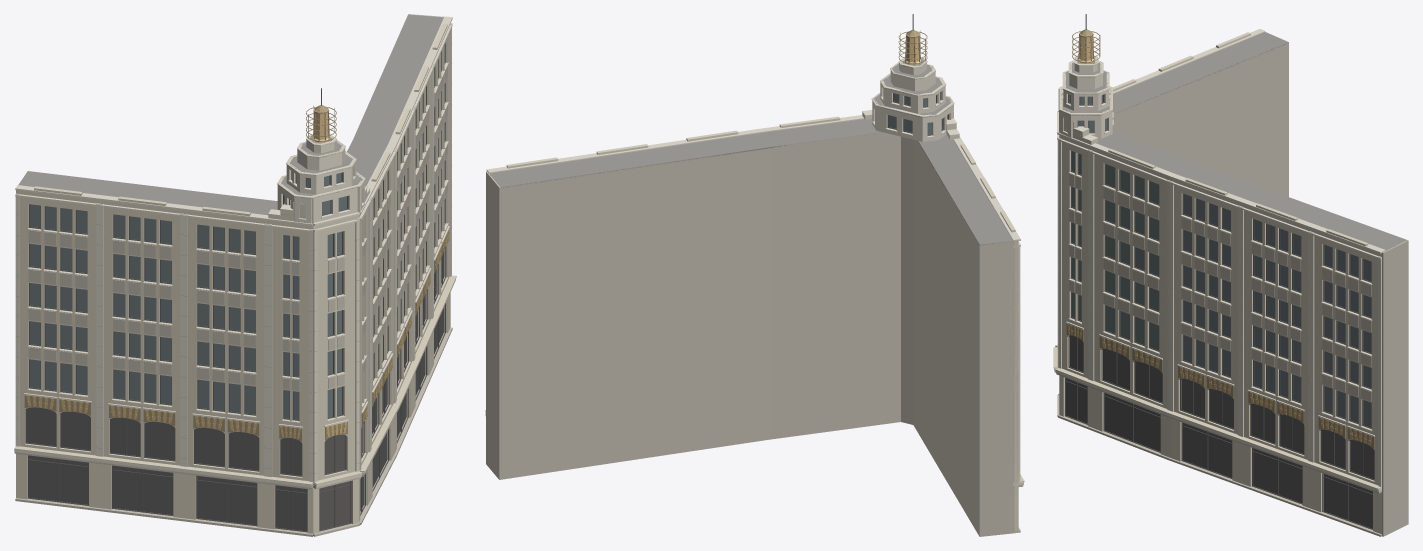
Rendered from huangpu-cishu-building-lod.glb.
3 renders of one model, left to right at view 1: azimuth 30°, elevation 25°; view 2: azimuth 150°, elevation 25°; view 3: azimuth 270°, elevation 25°, orthographic. The views are drawn at different scales.
Parts seen in each view (by area): view 1: 慈淑大楼（东北街角及塔亭）; view 2: 慈淑大楼（东北街角及塔亭）; view 3: 慈淑大楼（东北街角及塔亭）.
Part boxes in pixels (<box>): 慈淑大楼（东北街角及塔亭）: <box>14,14,456,536</box>; 慈淑大楼（东北街角及塔亭）: <box>485,14,1024,536</box>; 慈淑大楼（东北街角及塔亭）: <box>1053,14,1408,536</box>.
Size of the model in its own units: 43.54 by 35.28 by 28.93.
